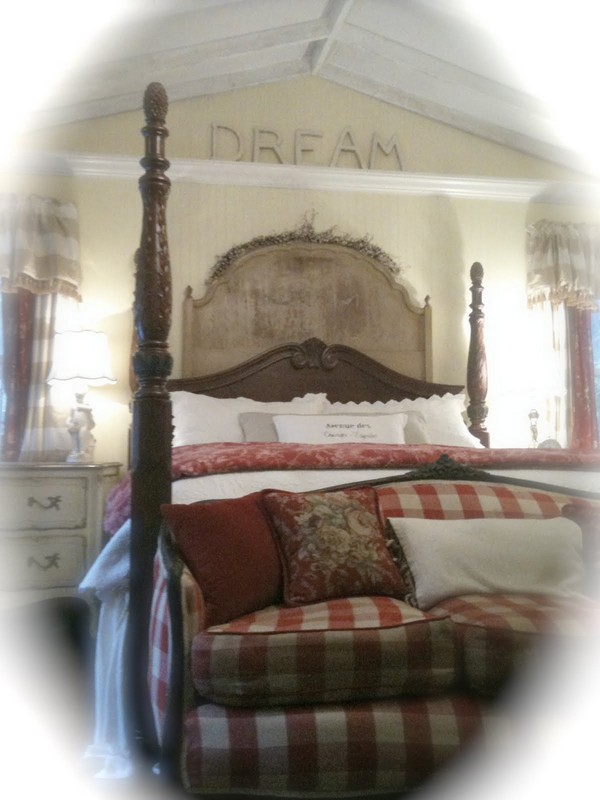bed: (139, 176, 586, 785)
lamp: (44, 324, 121, 468), (497, 343, 568, 453)
